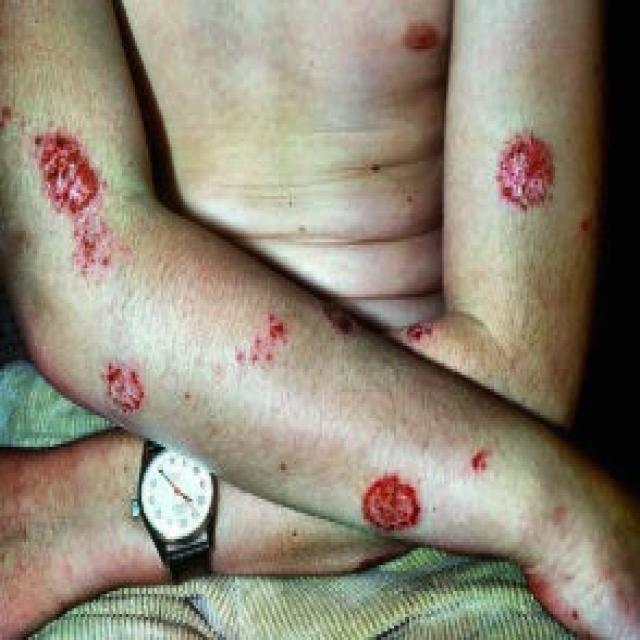Atopic-Dermatitis: (0, 3, 640, 635), (449, 81, 596, 288)
